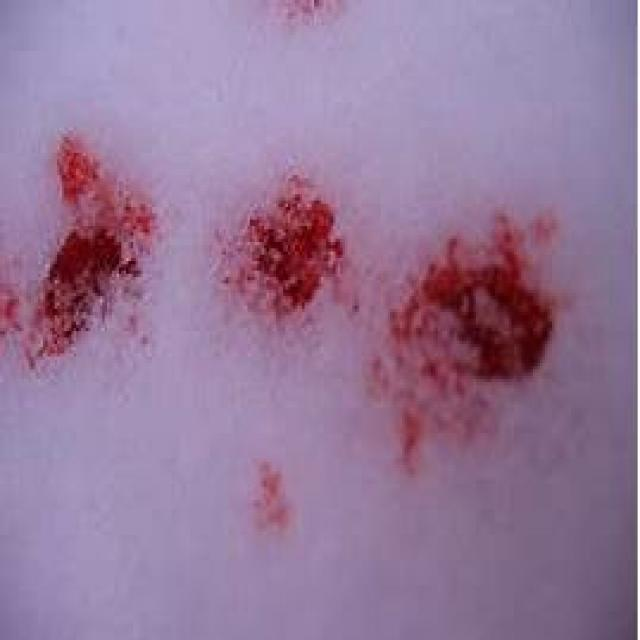wound: (368, 178, 606, 454), (0, 130, 182, 385), (193, 175, 371, 382)
